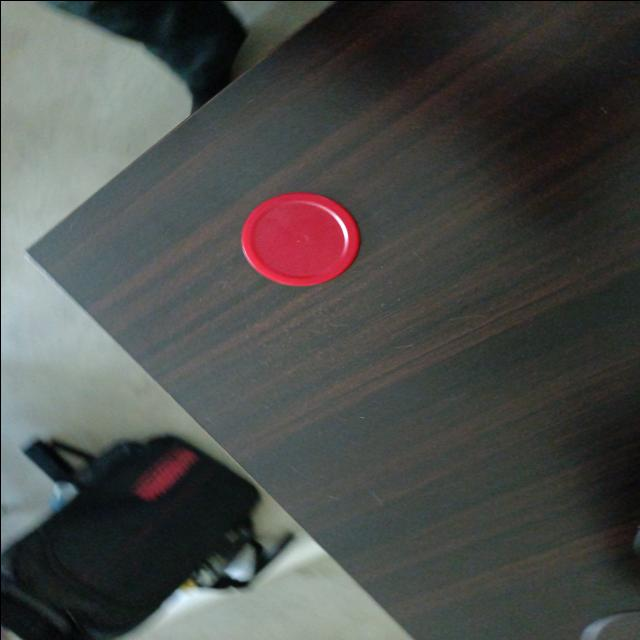chip: (234, 190, 364, 290)
